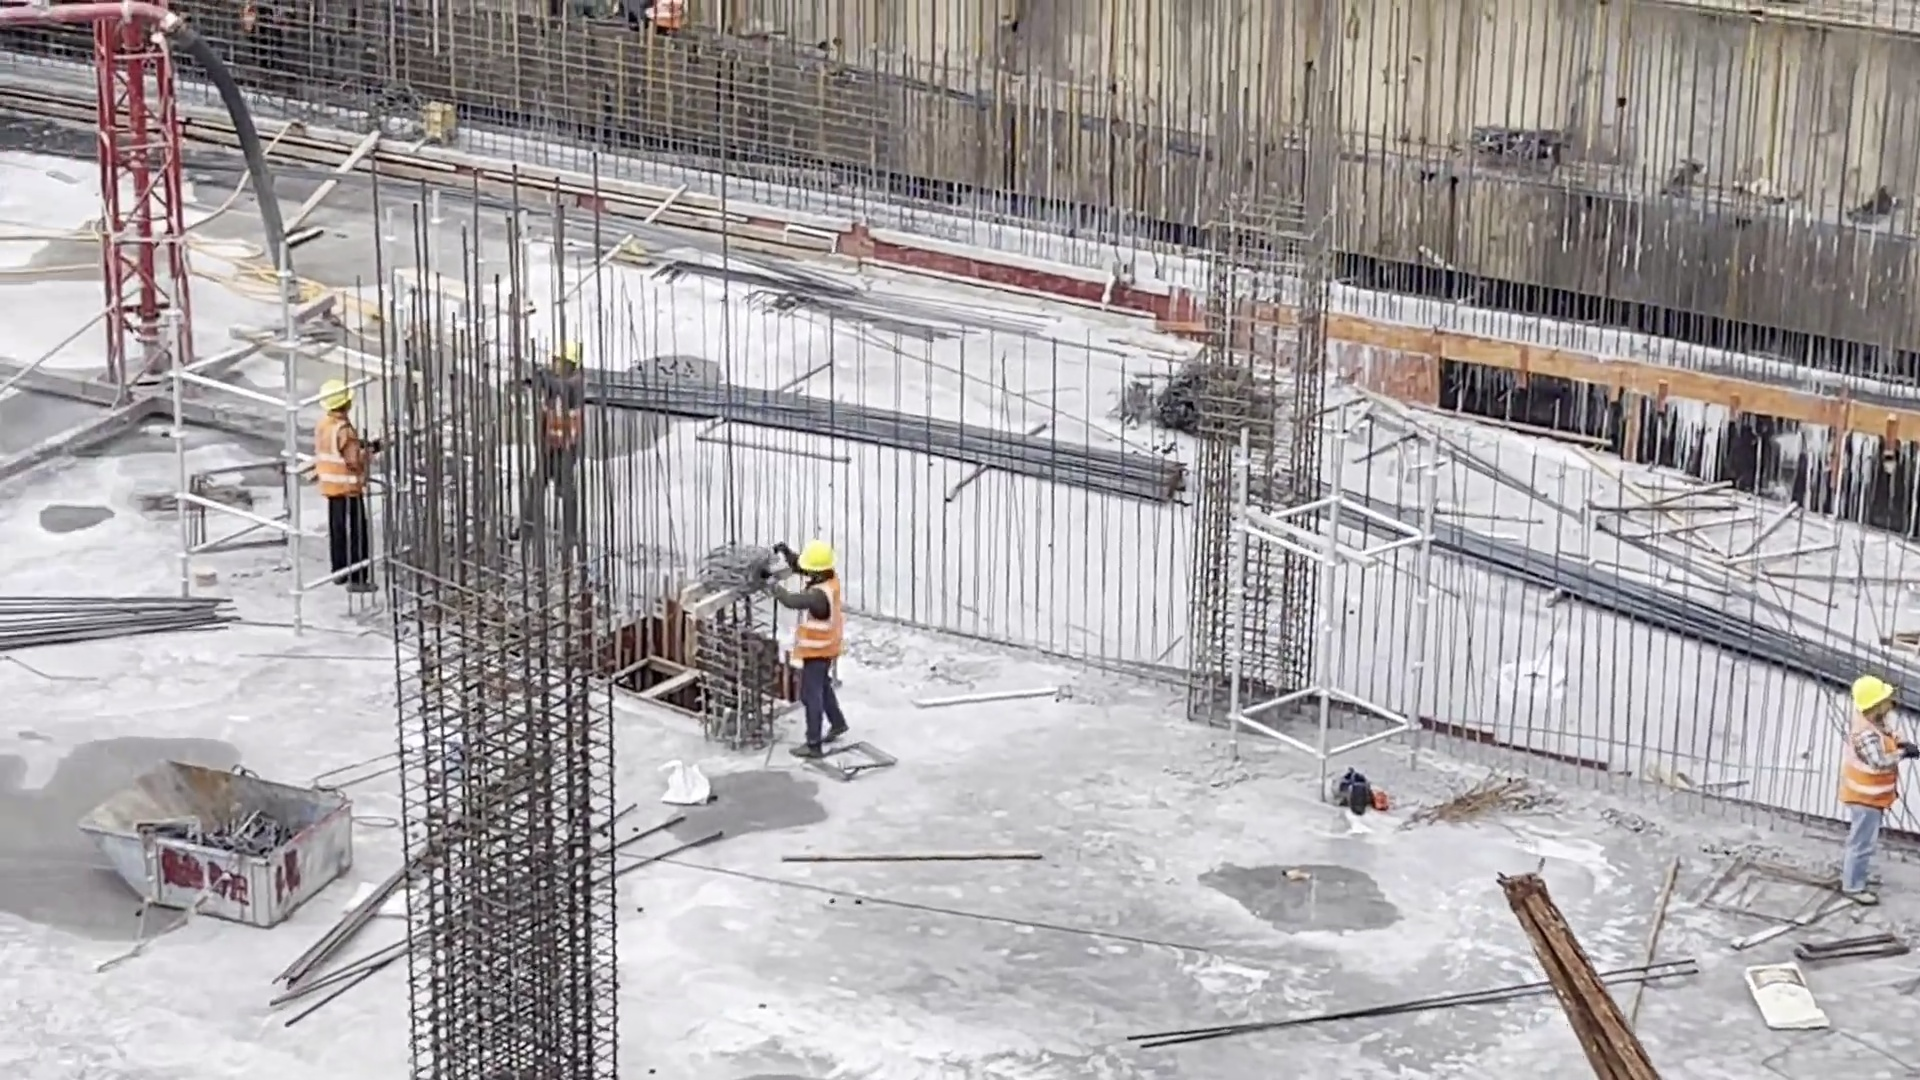helmet: (796, 537, 846, 572), (313, 376, 359, 414), (1853, 673, 1894, 709)
hopper: (78, 762, 369, 933)
person: (298, 367, 396, 602), (772, 532, 863, 758), (1841, 665, 1915, 914), (523, 332, 586, 554)
rebar: (1327, 444, 1856, 678), (612, 353, 1187, 501)
vest: (1836, 709, 1908, 805), (313, 415, 376, 510), (795, 583, 853, 673), (536, 385, 586, 454)
